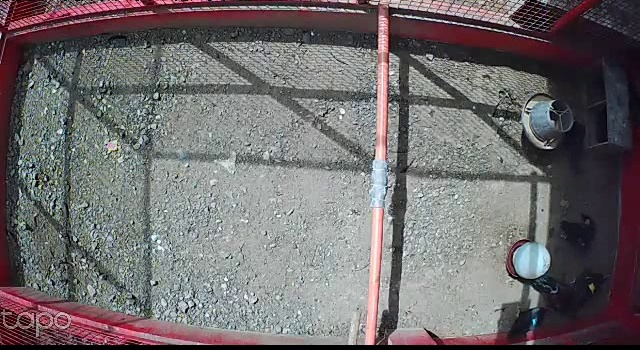Chicken: (502, 302, 553, 346), (560, 117, 589, 183), (568, 263, 612, 305), (557, 212, 596, 251)
Drinker: (504, 239, 554, 279)
Feeder: (518, 90, 578, 151)
Rooster: (528, 272, 591, 325)
Saddle_Color_Blue: (530, 316, 537, 327)
Saddle_Color_Yellow: (589, 283, 596, 293)
